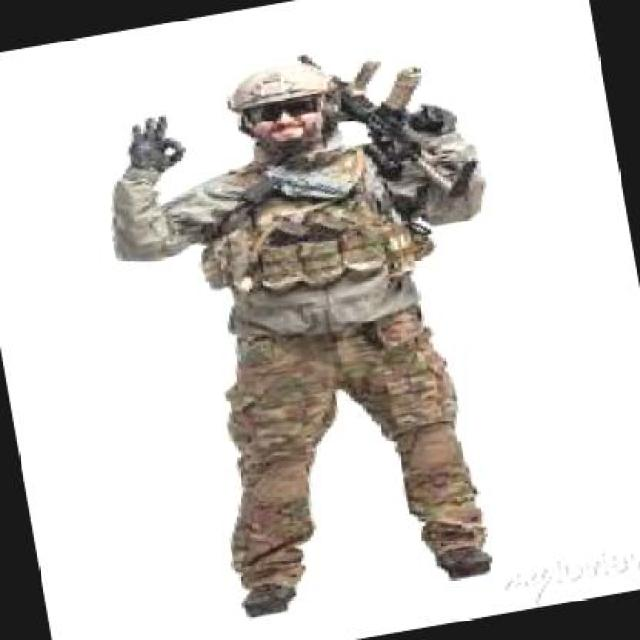MIL_Pax: (86, 29, 554, 628)
